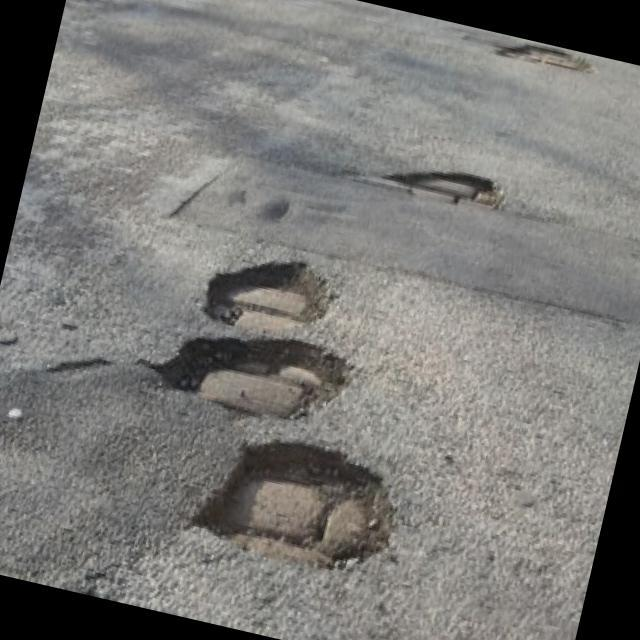Pothole: (182, 418, 420, 596), (136, 305, 373, 446), (172, 220, 362, 351), (368, 131, 522, 222), (489, 32, 609, 85)
